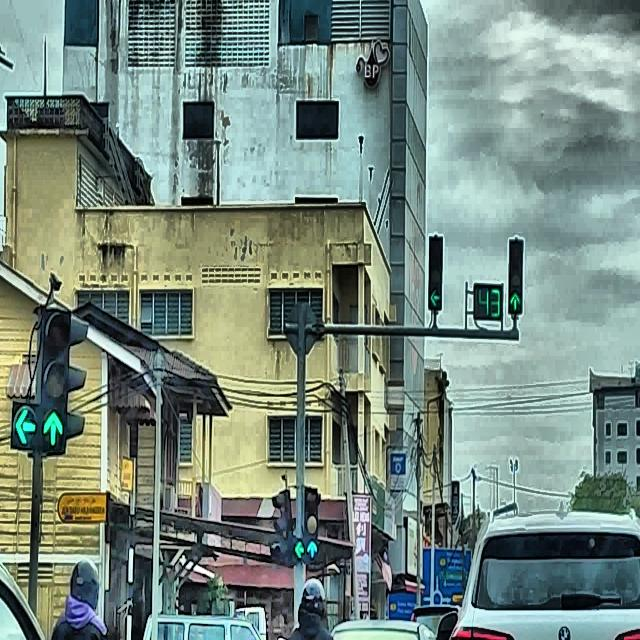green: (10, 309, 42, 447), (42, 309, 70, 455), (508, 241, 524, 315), (428, 236, 443, 310), (292, 487, 305, 562), (305, 488, 318, 560)
